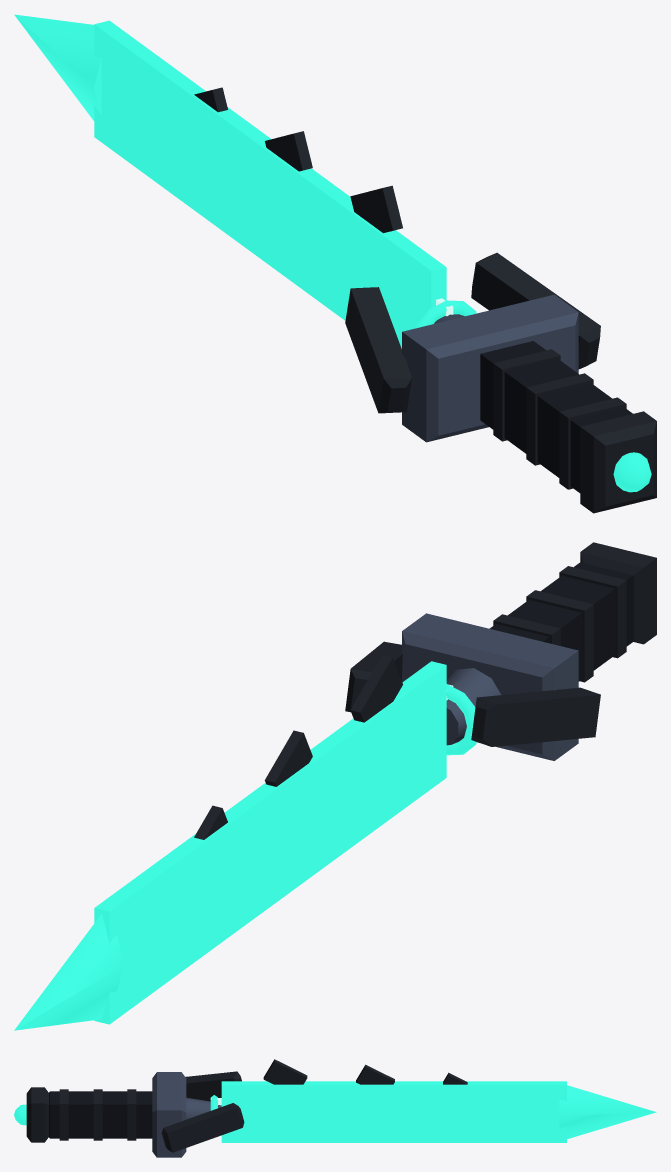
File: weapon_blade.glb
3 views of the same model, one above another, from view 1: azimuth 30°, elevation 25°; view 2: azimuth 150°, elevation 25°; view 3: azimuth 270°, elevation 25° (orthographic). The views are drawn at different scales.
Parts seen in each view (by area): view 1: weapon_blade; view 2: weapon_blade; view 3: weapon_blade.
Part boxes in pixels (<box>): weapon_blade: <box>14,14,656,513</box>; weapon_blade: <box>14,542,656,1030</box>; weapon_blade: <box>14,1059,656,1157</box>.
Bounding box in the file's own units: 0.171 × 0.1193 × 0.857.
